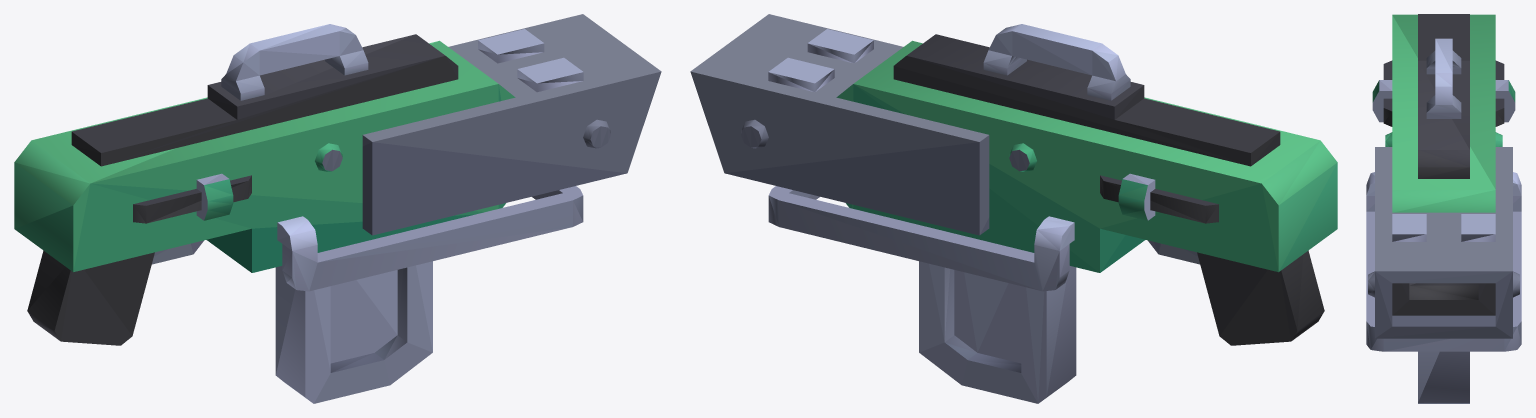
Rendered from Kenney_Raygun.obj.
3 renders of one model, left to right at view 1: azimuth 30°, elevation 25°; view 2: azimuth 150°, elevation 25°; view 3: azimuth 270°, elevation 25°, orthographic. The views are drawn at different scales.
Parts seen in each view (by area): view 1: blaster-r; view 2: blaster-r; view 3: blaster-r.
Boxes of the visible parts, box(x1,y1,x2,y2) form: blaster-r: box(14, 14, 661, 403); blaster-r: box(690, 14, 1337, 403); blaster-r: box(1366, 14, 1521, 403).
Bounding box in the file's own units: 0.6834 × 0.4009 × 0.18.
